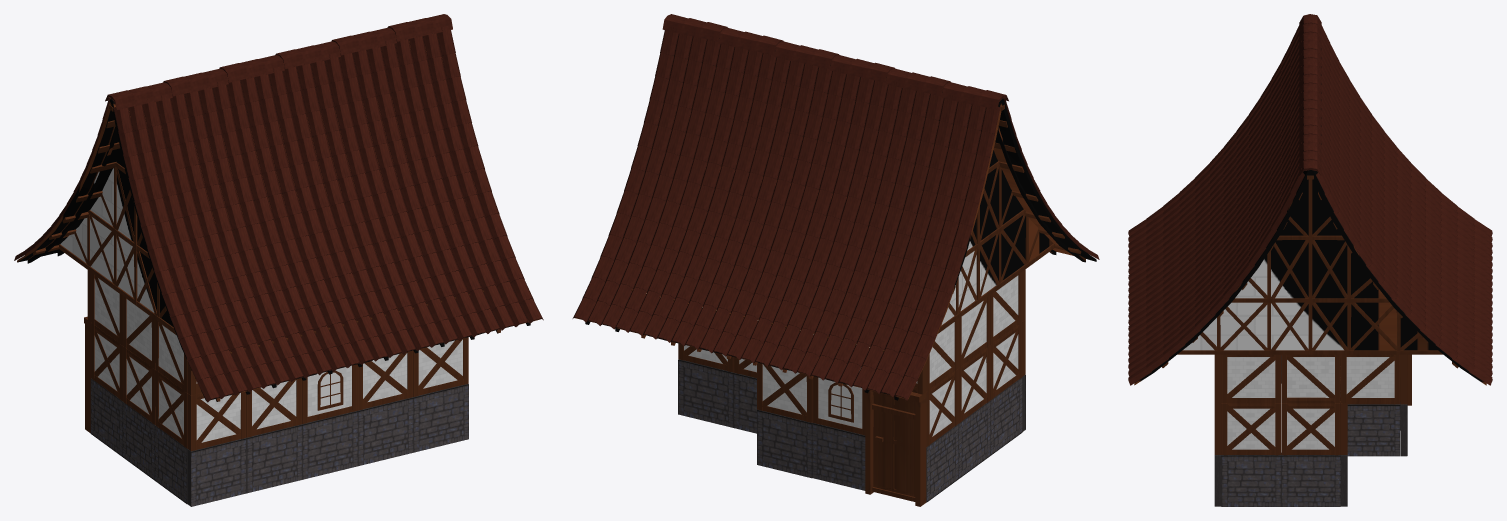
The model's file is House4_LOD2.fbx.
The picture shows the model from 3 angles, left to right: view 1: azimuth 30°, elevation 25°; view 2: azimuth 150°, elevation 25°; view 3: azimuth 270°, elevation 25°; orthographic projection. The views are drawn at different scales.
Parts seen in each view (by area): view 1: House4_LOD2; view 2: House4_LOD2; view 3: House4_LOD2.
Boxes of the visible parts, bbox=[...] form: House4_LOD2: bbox=[14, 14, 543, 506]; House4_LOD2: bbox=[572, 14, 1099, 506]; House4_LOD2: bbox=[1128, 14, 1492, 506].
Bounding box in the file's own units: 1285 × 1384 × 1291.
